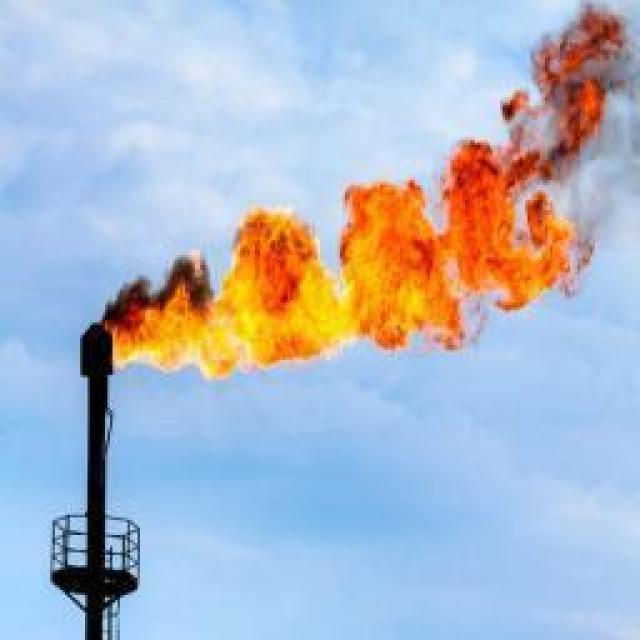fire: (102, 140, 575, 382)
smoke: (502, 10, 640, 301), (99, 250, 214, 325)
